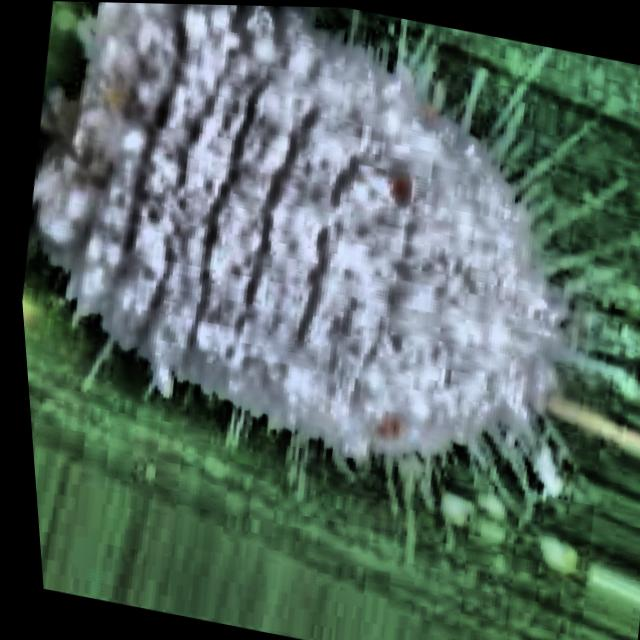Mealy-bug: (0, 0, 640, 603)
